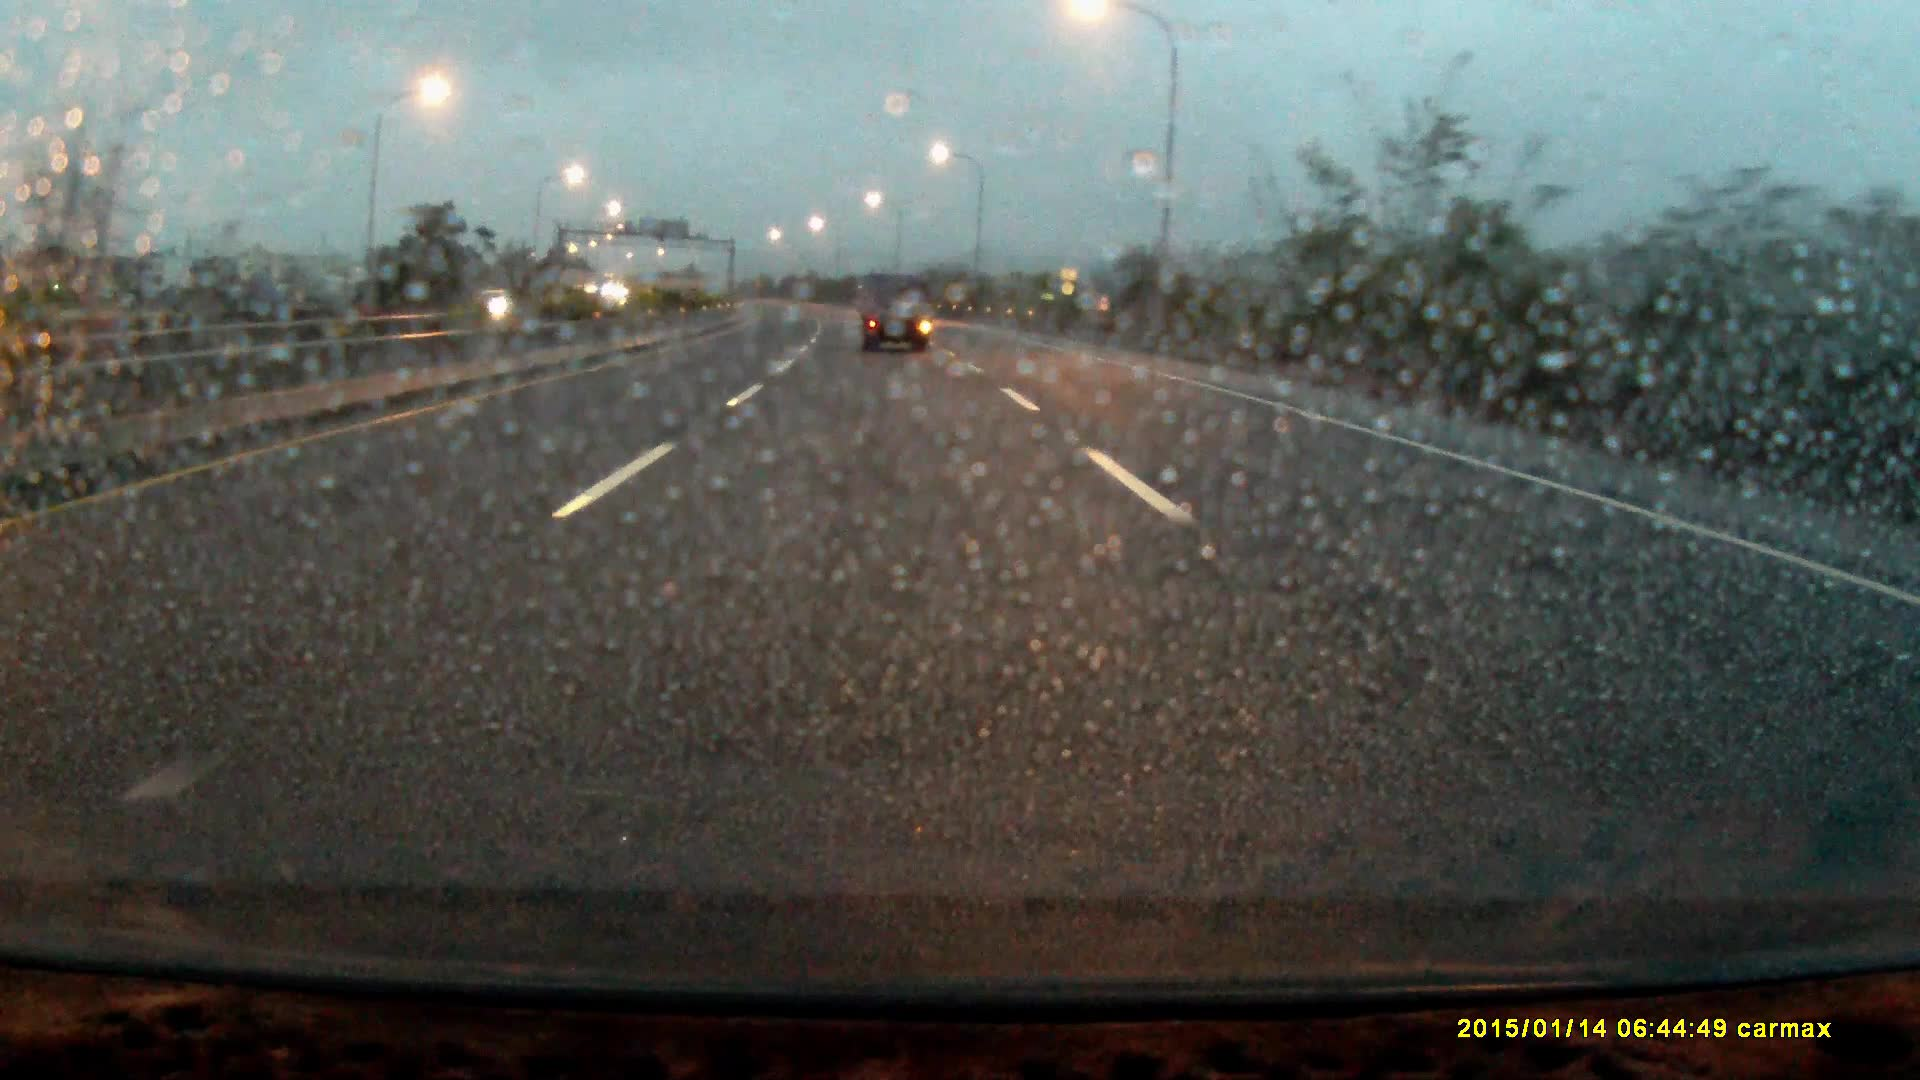vehicle: (860, 270, 931, 352), (464, 284, 531, 320)
